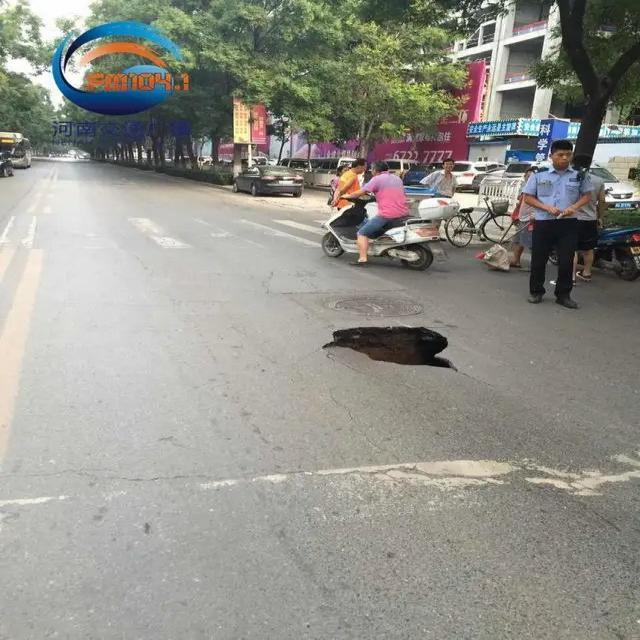Pothole: (322, 324, 465, 372)
